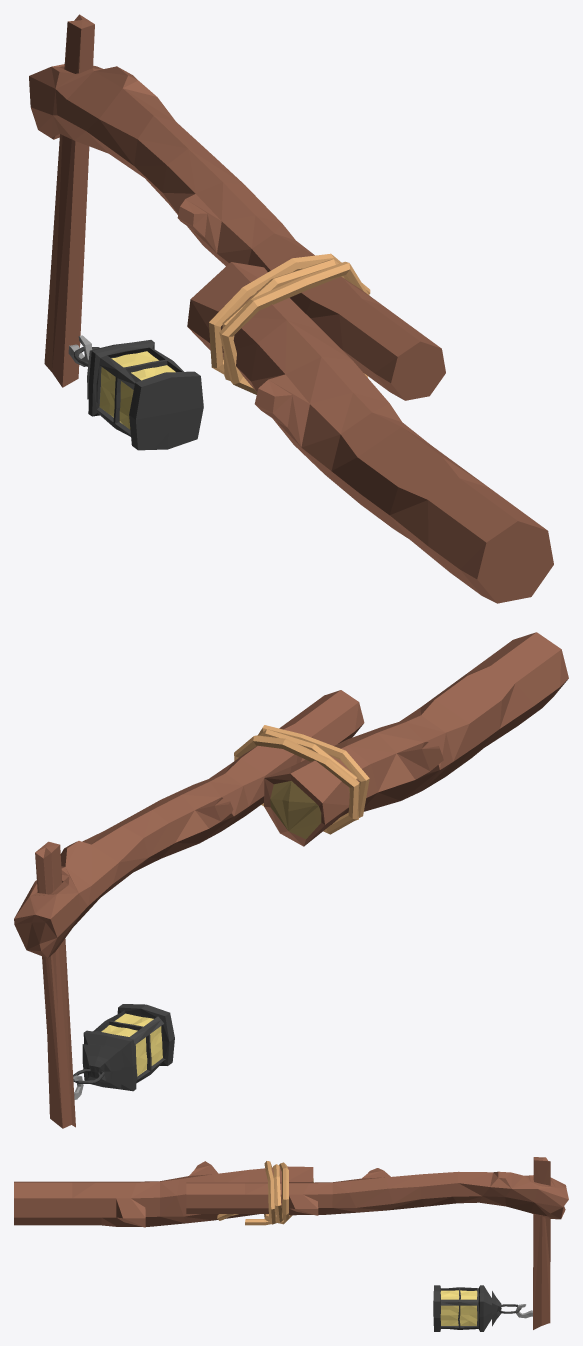
The model's file is Lantern.fbx.
3 views of the same model, one above another, from view 1: azimuth 30°, elevation 25°; view 2: azimuth 150°, elevation 25°; view 3: azimuth 270°, elevation 25° (orthographic). The views are drawn at different scales.
Visible parts, largest first — view 1: LanternWithLamp; view 2: LanternWithLamp; view 3: LanternWithLamp.
Boxes of the visible parts, <box> form: LanternWithLamp: <box>29,14,553,603</box>; LanternWithLamp: <box>14,632,568,1128</box>; LanternWithLamp: <box>14,1157,568,1331</box>.
Bounding box in the file's own units: 199 × 1010 × 356.
